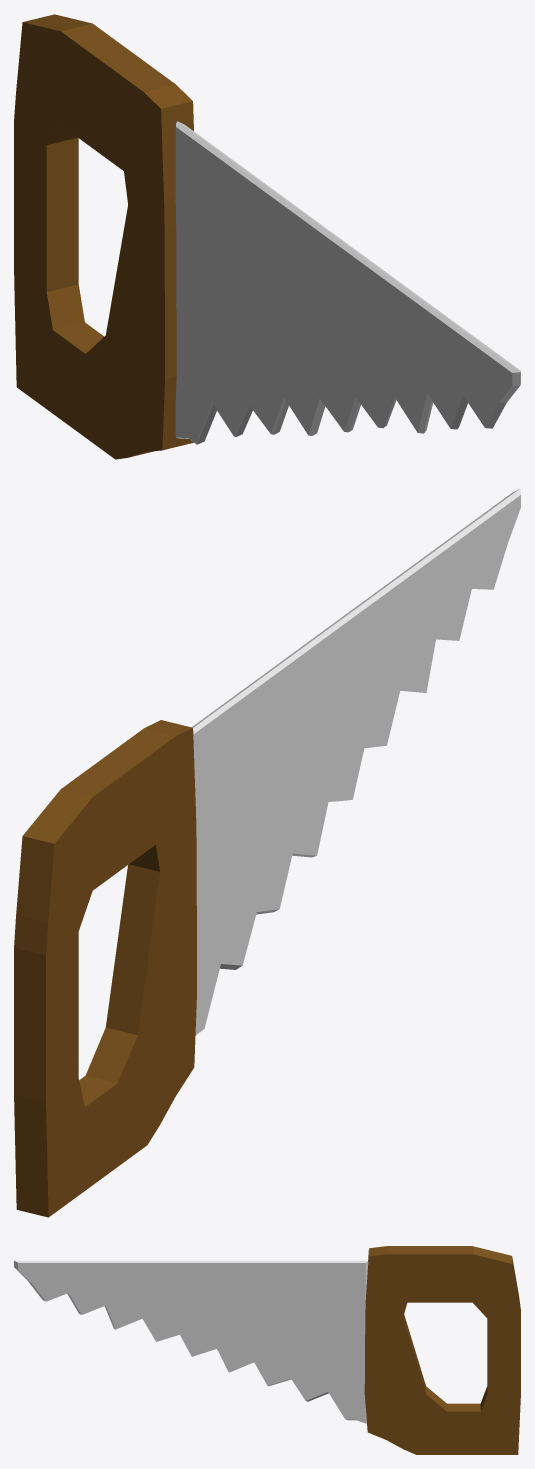
File: G3_Prop_Serra_1.fbx
3 views of the same model, one above another, from view 1: azimuth 30°, elevation 25°; view 2: azimuth 150°, elevation 25°; view 3: azimuth 270°, elevation 25° (orthographic). The views are drawn at different scales.
Visible parts, largest first — view 1: Cube.008; view 2: Cube.008; view 3: Cube.008.
Part boxes in pixels (x1,y1,x2,y2): Cube.008: [14, 14, 520, 459]; Cube.008: [14, 488, 520, 1217]; Cube.008: [14, 1246, 520, 1454].
Bounding box in the file's own units: 70.53 × 818 × 1873.
